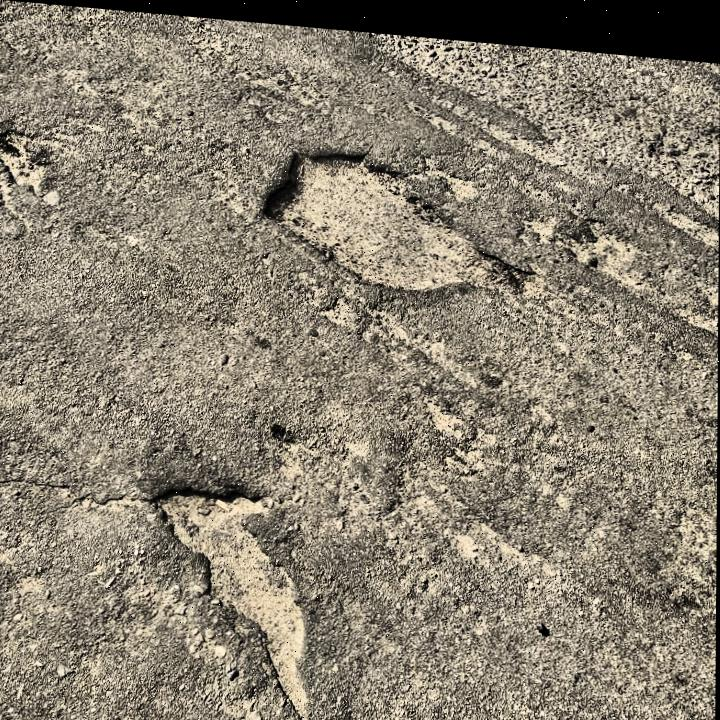pothole: (254, 132, 543, 300), (151, 475, 324, 720), (0, 126, 56, 210)
